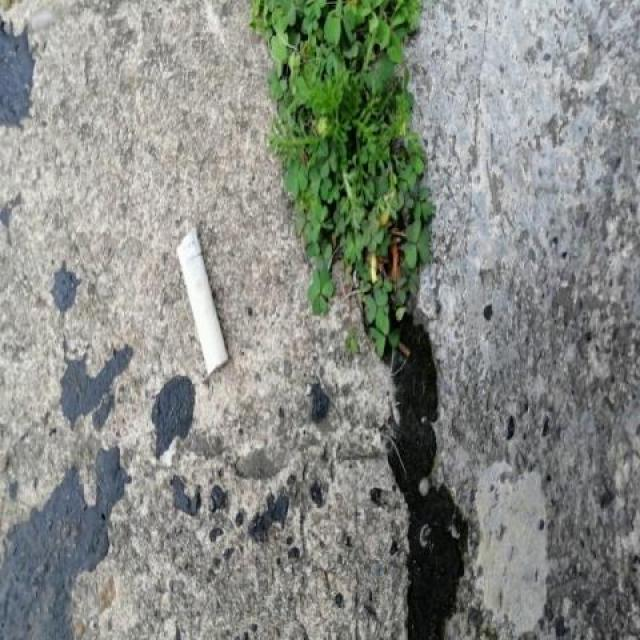non-organic waste: (175, 222, 232, 379)
